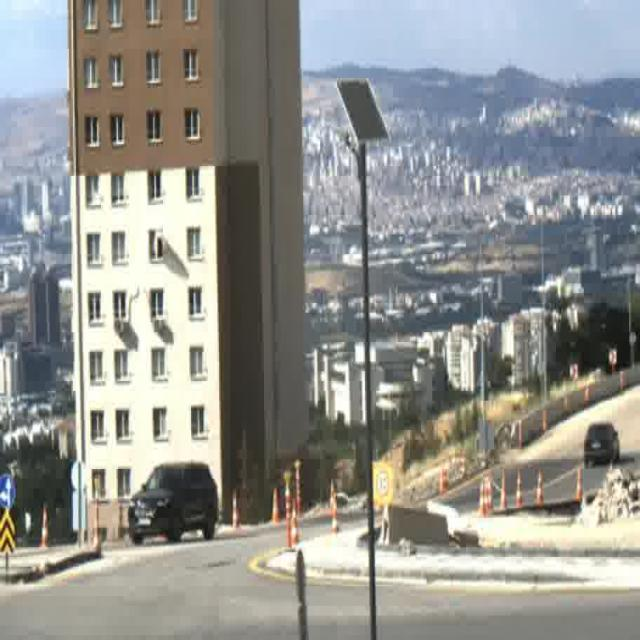Car: (130, 459, 218, 545), (585, 423, 620, 465)
